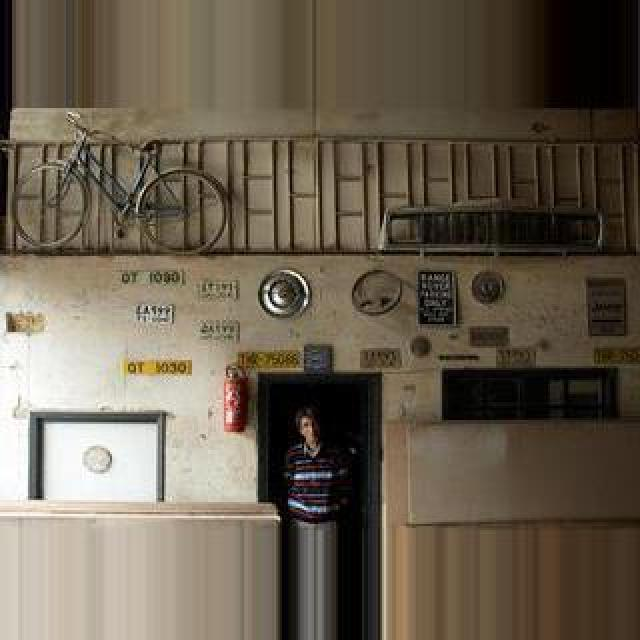Person: (8, 112, 228, 256)
